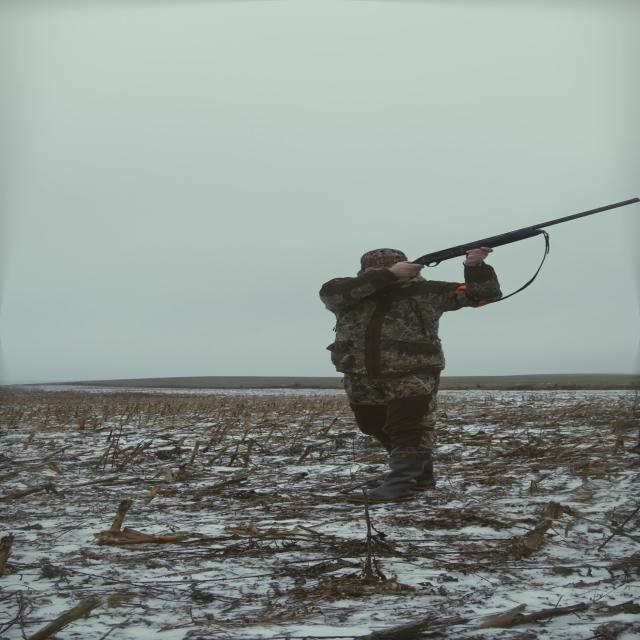Hunter: (294, 224, 506, 494)
Rifle: (412, 194, 640, 268)
